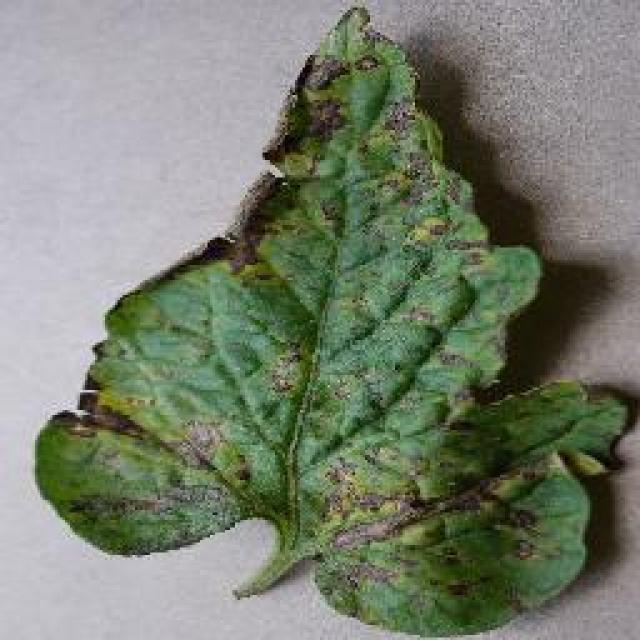Tomato Early blight leaf: (35, 12, 633, 628)
